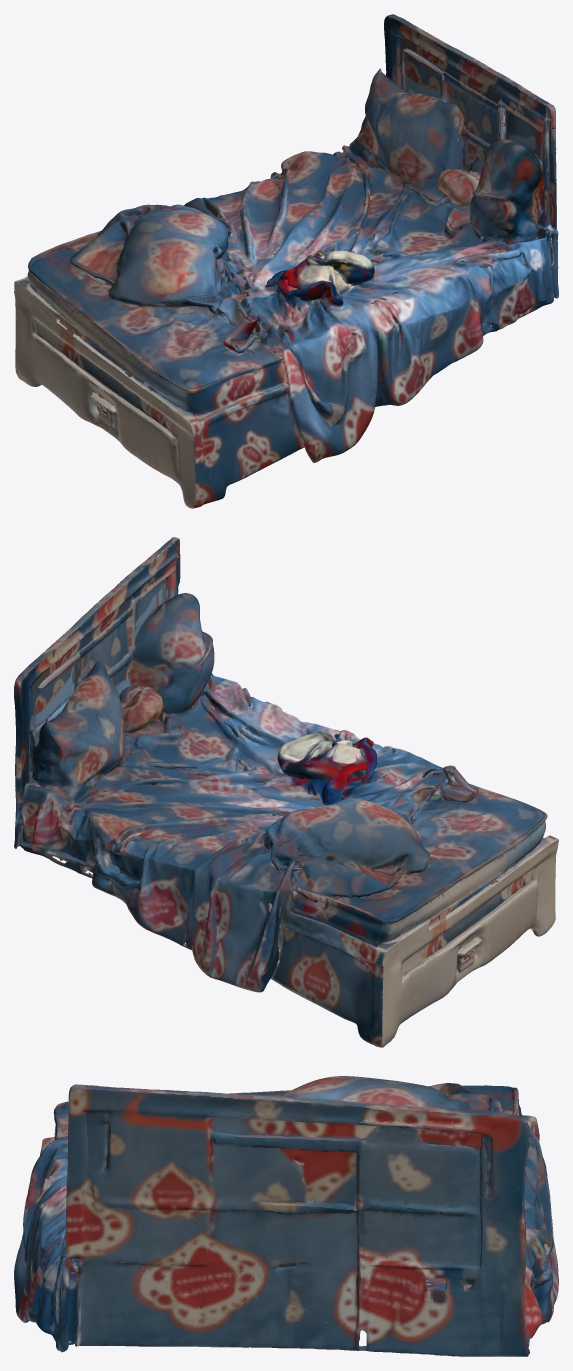
File: bed-lux3d-original.glb
3 views of the same model, one above another, from view 1: azimuth 30°, elevation 25°; view 2: azimuth 150°, elevation 25°; view 3: azimuth 270°, elevation 25° (orthographic). The views are drawn at different scales.
Parts seen in each view (by area): view 1: geometry_0; view 2: geometry_0; view 3: geometry_0.
Part boxes in pixels (x1,y1,x2,y2): geometry_0: (14, 14, 558, 508); geometry_0: (14, 537, 558, 1047); geometry_0: (14, 1076, 558, 1356).
Bounding box in the file's own units: 2 × 1.57 × 1.78.
Materials: 1 (1 with a texture image).
